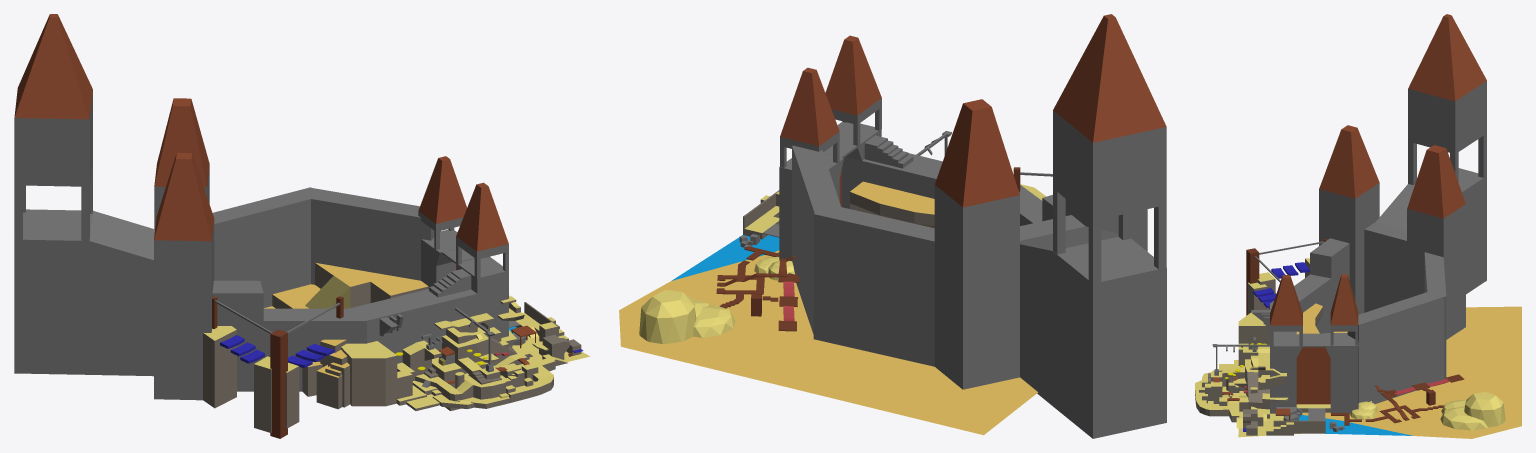
Rendered from pbfort.glb.
3 views of the same model, side by side, from view 1: azimuth 30°, elevation 25°; view 2: azimuth 150°, elevation 25°; view 3: azimuth 270°, elevation 25° (orthographic). The views are drawn at different scales.
Parts seen in each view (by area): view 1: Cube.005-col.002, Cube.002-col.014, Cube-col.017, Cube-col.013, Cube.001-col.013, Cube.001-col.014, Cube.001-col.003, Cube.006-col.002, Cube.003-col.008, Cube-col.012, Cube.002-col.009, Cube.002-col.020 (+12 smaller); view 2: Cube.005-col.002, Plane-col, Cube.003-col.008, Cube-col.017, Cube.001-col.013, Cube-col.013, Icosphere-col.002, Cube.002-col.009, Cube.002-col.020, Cube.001-col.003, Cube.001-col.016, Cube.005-col (+4 smaller); view 3: Plane-col, Cube-col.017, Cube-col.013, Cube.003-col.008, Cube.005-col.002, Cube.002-col.014, Cube.001-col.014, Cube.005-col, Cube, Icosphere-col.002, Cube.002-col.009, Cube.002-col.020 (+12 smaller).
Boxes of the visible parts, x1=… form: Cube.005-col.002: x1=14, y1=209, x2=154, y2=376; Cube.002-col.014: x1=154, y1=152, x2=214, y2=400; Cube-col.017: x1=14, y1=14, x2=92, y2=240; Cube-col.013: x1=302, y1=188, x2=440, y2=284; Cube.001-col.013: x1=212, y1=187, x2=320, y2=307; Cube.001-col.014: x1=212, y1=280, x2=366, y2=391; Cube.001-col.003: x1=349, y1=286, x2=508, y2=363; Cube.006-col.002: x1=272, y1=262, x2=428, y2=308; Cube.003-col.008: x1=154, y1=98, x2=209, y2=229; Cube-col.012: x1=341, y1=341, x2=397, y2=406; Cube.002-col.009: x1=456, y1=182, x2=508, y2=278; Cube.002-col.020: x1=418, y1=156, x2=466, y2=250; Cube.005-col.002: x1=1020, y1=215, x2=1166, y2=438; Plane-col: x1=619, y1=235, x2=1037, y2=435; Cube.003-col.008: x1=934, y1=99, x2=1019, y2=389; Cube-col.017: x1=1053, y1=14, x2=1166, y2=283; Cube.001-col.013: x1=813, y1=204, x2=934, y2=366; Cube-col.013: x1=792, y1=145, x2=840, y2=334; Icosphere-col.002: x1=639, y1=289, x2=735, y2=343; Cube.002-col.009: x1=825, y1=35, x2=881, y2=146; Cube.002-col.020: x1=780, y1=67, x2=839, y2=167; Cube.001-col.003: x1=841, y1=153, x2=942, y2=208; Cube.001-col.016: x1=850, y1=181, x2=934, y2=228; Cube.005-col: x1=779, y1=153, x2=843, y2=260; Plane-col: x1=1238, y1=306, x2=1521, y2=438; Cube-col.017: x1=1408, y1=14, x2=1486, y2=185; Cube-col.013: x1=1347, y1=290, x2=1444, y2=403; Cube.003-col.008: x1=1407, y1=145, x2=1465, y2=339; Cube.005-col.002: x1=1364, y1=168, x2=1486, y2=312; Cube.002-col.014: x1=1319, y1=125, x2=1379, y2=314; Cube.001-col.014: x1=1269, y1=238, x2=1349, y2=333; Cube.005-col: x1=1324, y1=333, x2=1358, y2=413; Cube: x1=1296, y1=346, x2=1330, y2=404; Icosphere-col.002: x1=1440, y1=392, x2=1505, y2=430; Cube.002-col.009: x1=1270, y1=275, x2=1302, y2=346; Cube.002-col.020: x1=1330, y1=274, x2=1358, y2=345.
Size of what is drawn, in the model's own units: 769 by 574 by 615.
